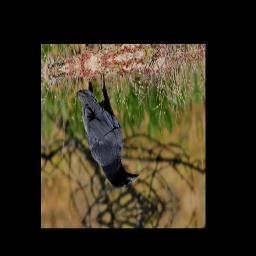Crow: (75, 65, 140, 196)
